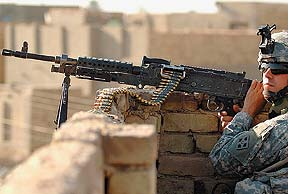rifle: (2, 39, 234, 98)
rifle in hand: (2, 37, 262, 148)
